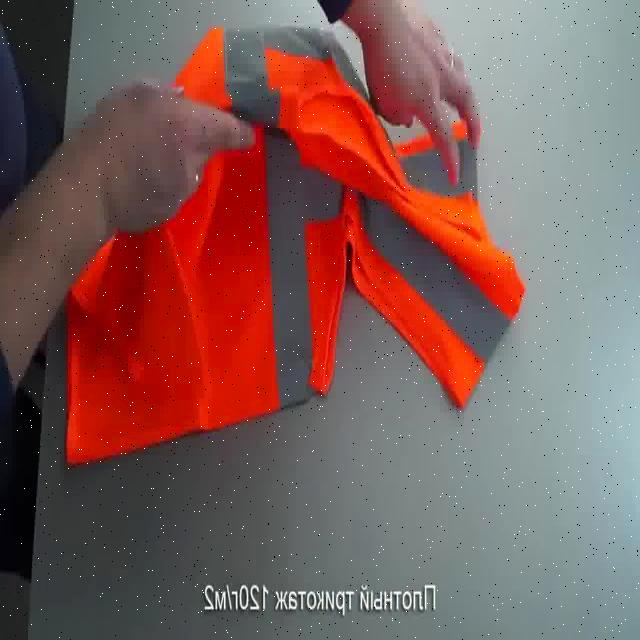Vest: (66, 7, 545, 450)
